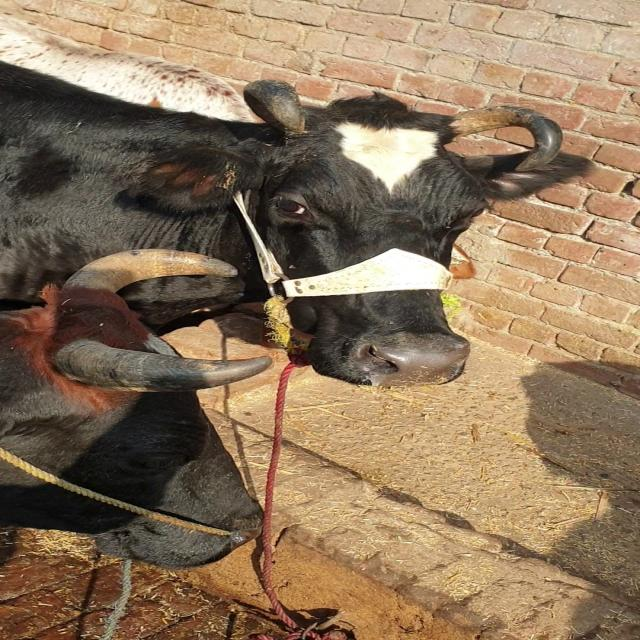cowFace: (246, 71, 523, 402), (44, 259, 262, 586)
